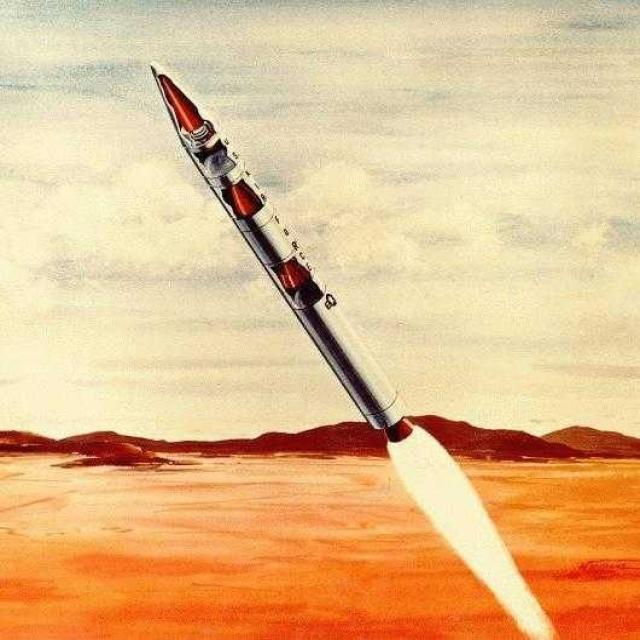missile: (152, 60, 418, 448)
